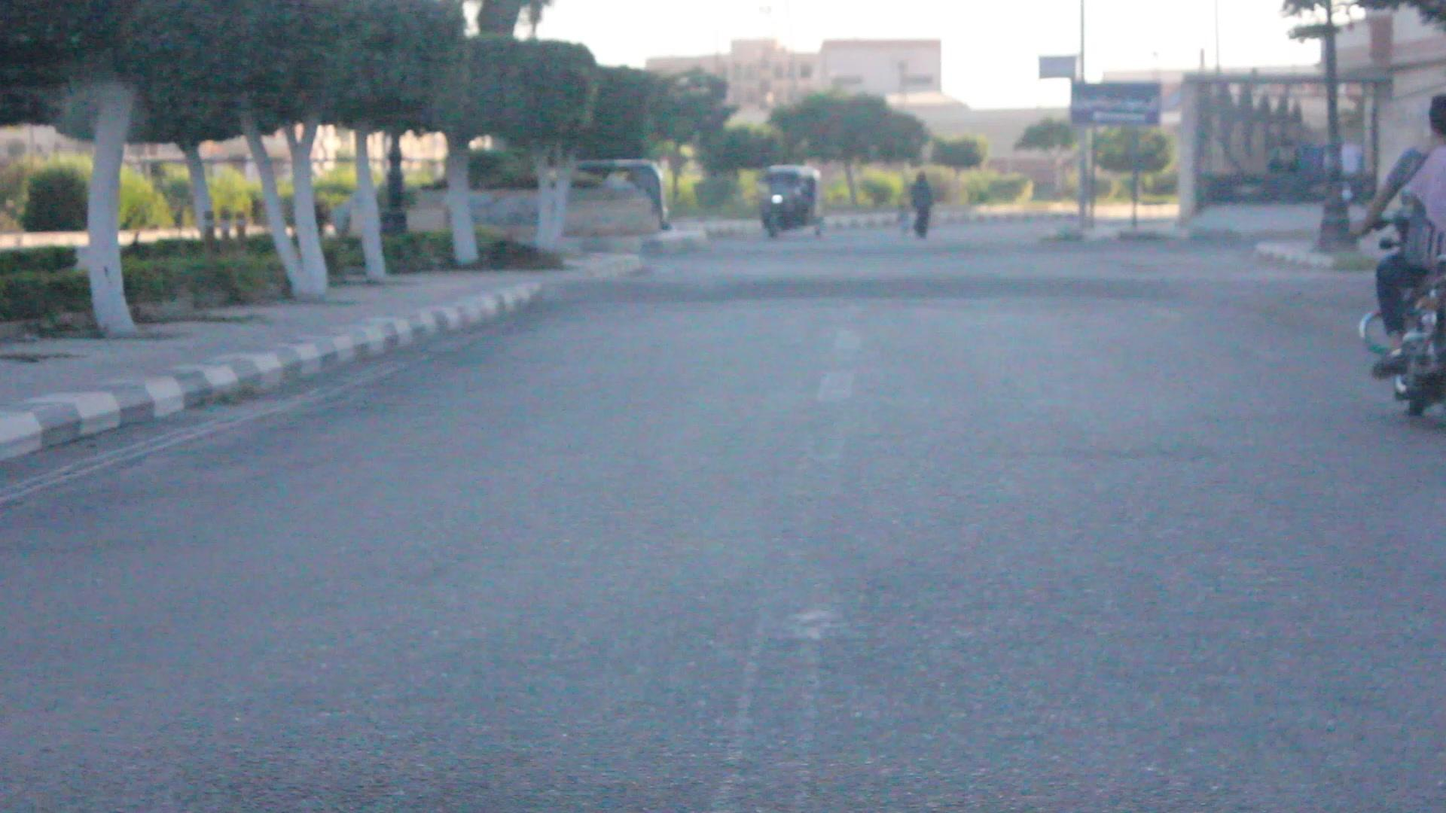Bump: (589, 273, 1201, 305)
